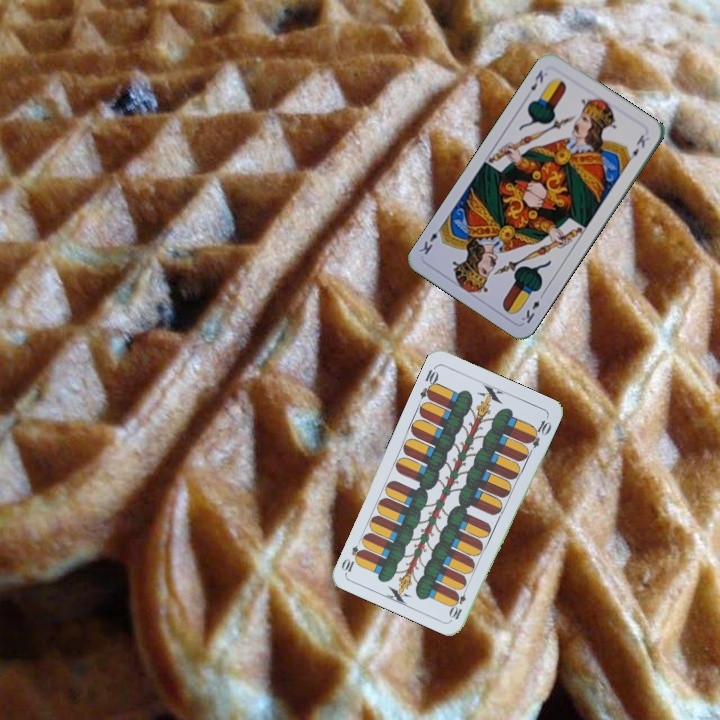E10: (416, 362, 441, 403), (446, 582, 470, 622)
EK: (517, 289, 546, 326), (526, 66, 546, 93)
